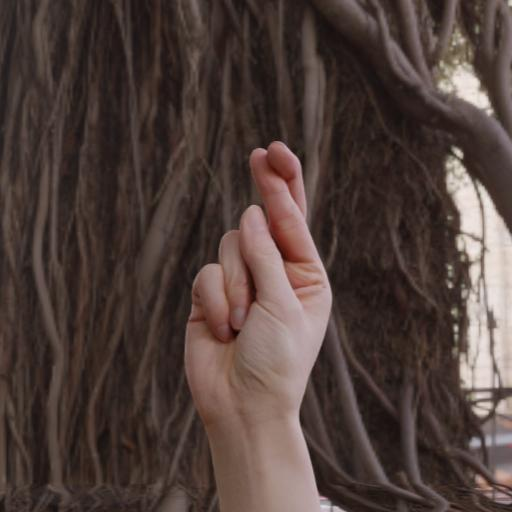R: (153, 121, 341, 503)
